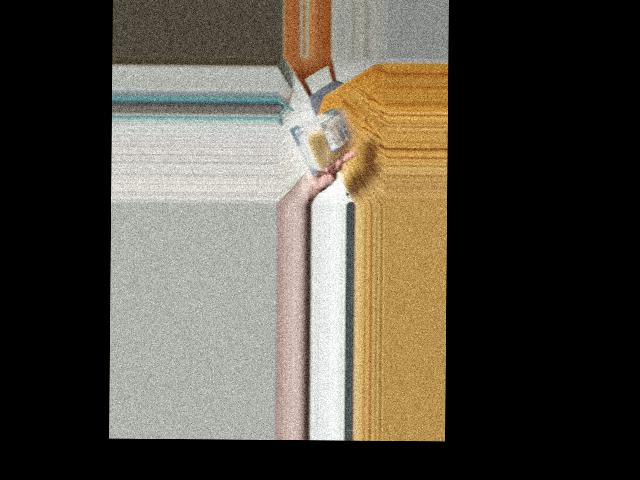cheese: (301, 110, 351, 170)
